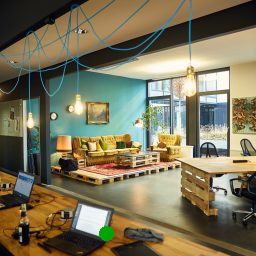focus: (95, 224, 116, 242)
